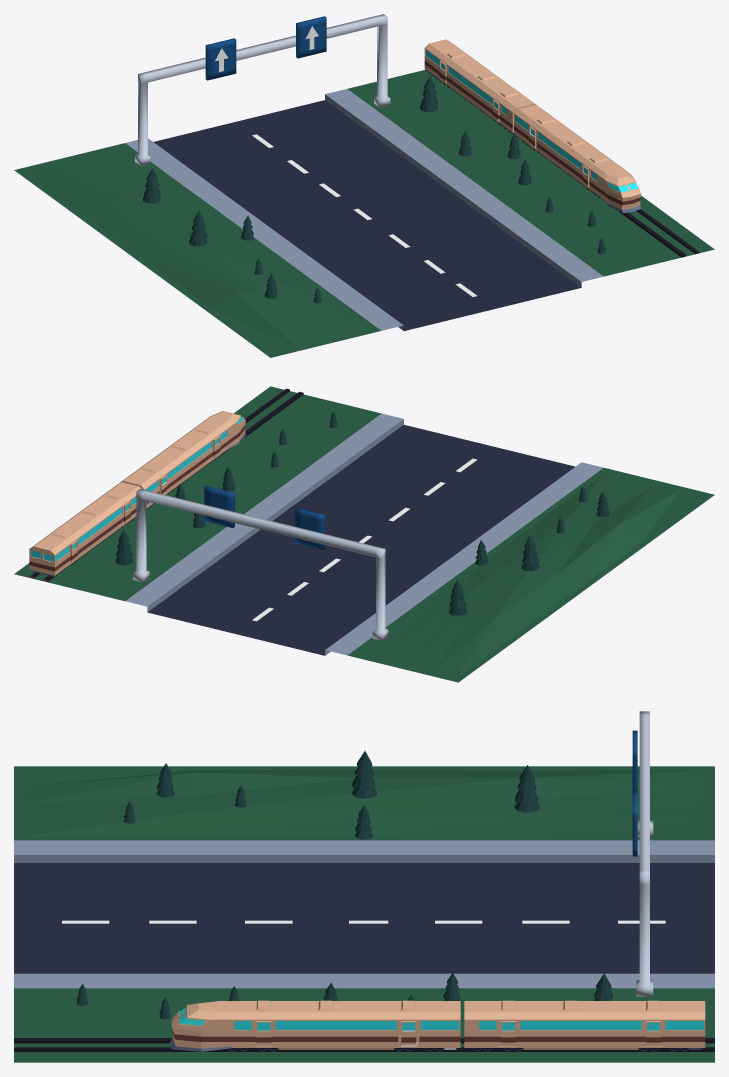
The model's file is Road8.fbx.
3 renders of one model, top to bottom at view 1: azimuth 30°, elevation 25°; view 2: azimuth 150°, elevation 25°; view 3: azimuth 270°, elevation 25°, orthographic. The views are drawn at different scales.
Parts seen in each view (by area): view 1: Road8; view 2: Road8; view 3: Road8.
Boxes of the visible parts, x1,y1,x2,y2 form: Road8: [14, 14, 714, 357]; Road8: [14, 386, 714, 682]; Road8: [14, 711, 714, 1062].
Size of the model in its own units: 20 by 4.8 by 20.
